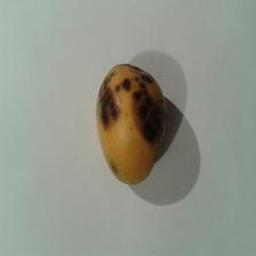Mango Rotten: (86, 56, 175, 184)
